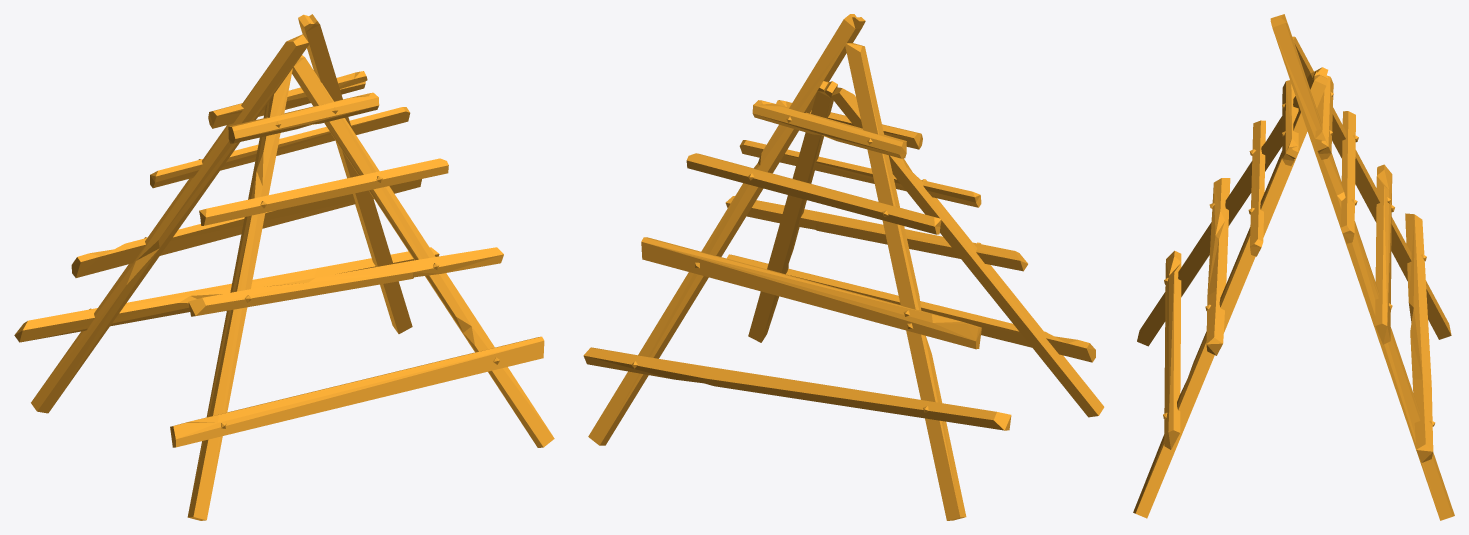
Rendered from SM_Hay_Drying_Rack_Triangle_C.fbx.
3 renders of one model, left to right at view 1: azimuth 30°, elevation 25°; view 2: azimuth 150°, elevation 25°; view 3: azimuth 270°, elevation 25°, orthographic.
Visible parts, largest first — view 1: hay-drying-rack-triangle-c; view 2: hay-drying-rack-triangle-c; view 3: hay-drying-rack-triangle-c.
Boxes of the visible parts, x1=… form: hay-drying-rack-triangle-c: x1=14, y1=14, x2=554, y2=520; hay-drying-rack-triangle-c: x1=583, y1=14, x2=1104, y2=520; hay-drying-rack-triangle-c: x1=1133, y1=14, x2=1454, y2=520.
Bounding box in the file's own units: 1.88 × 1.8 × 1.24.
